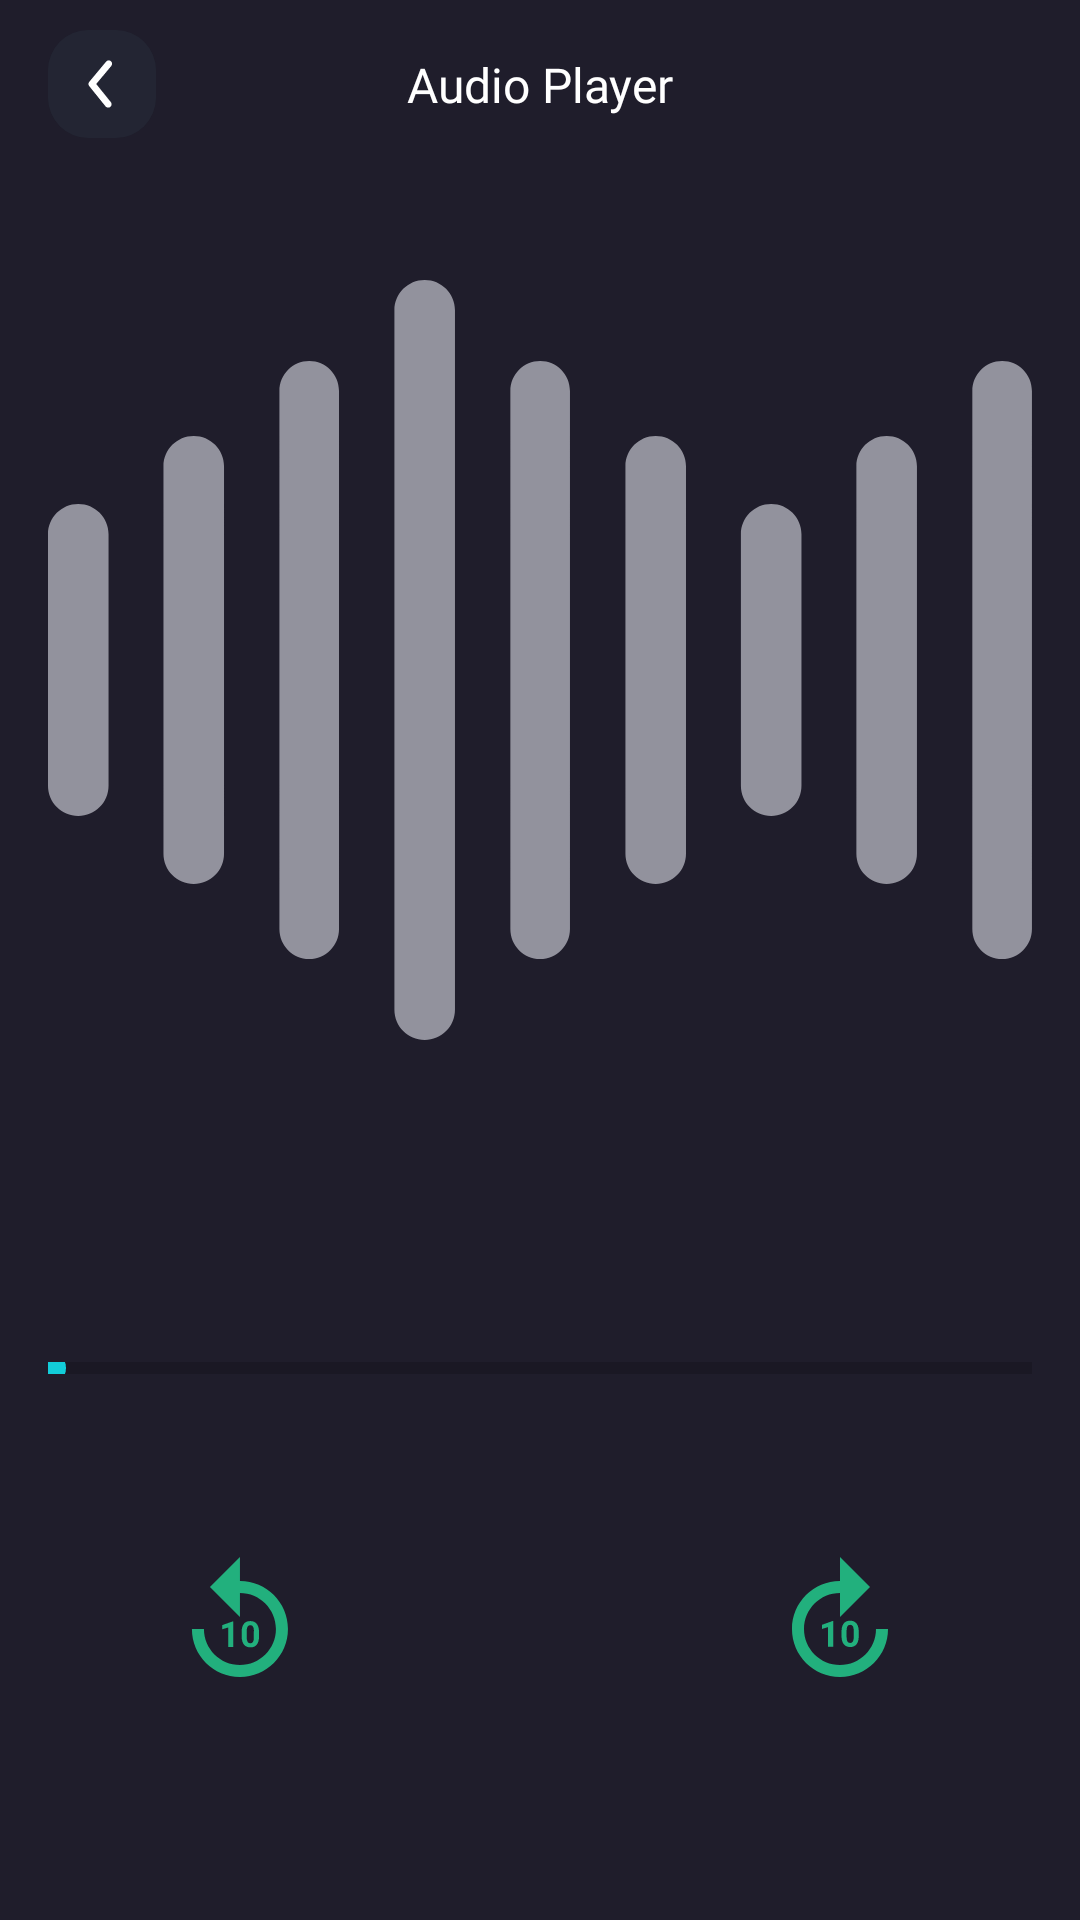

Named icons in this screenshot (1080 x 1920) and their centers, (x,y):
back: (100,84)
backward: (240,1617)
forward: (840,1617)
